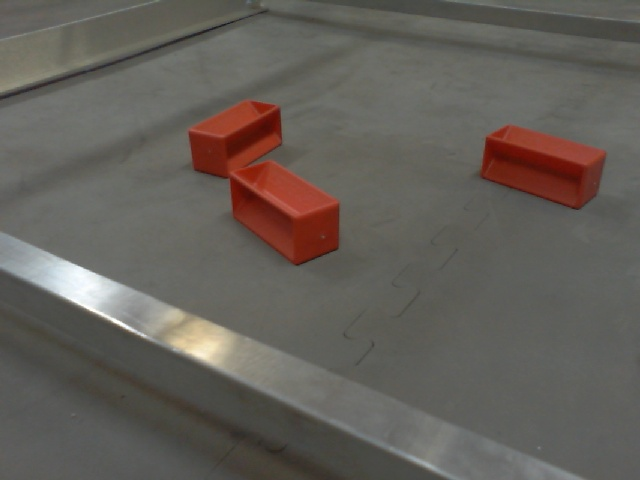RedSample: (227, 158, 342, 267), (480, 122, 606, 212), (187, 99, 283, 177)
